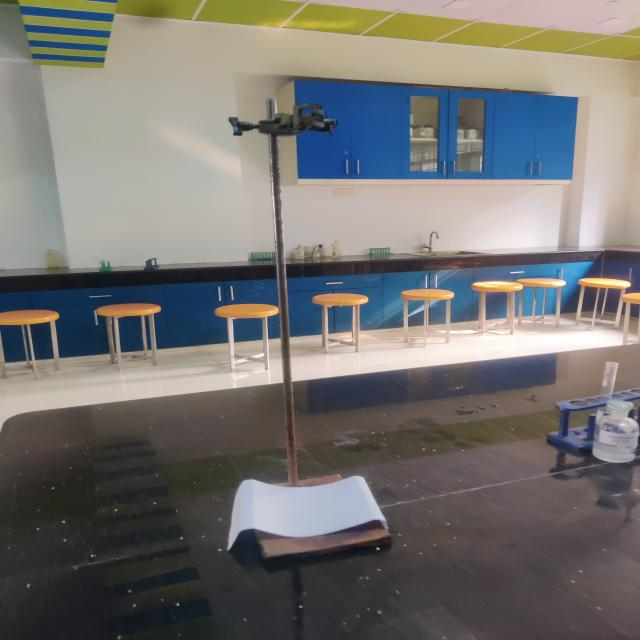Burette_Stands: (197, 80, 446, 578)
